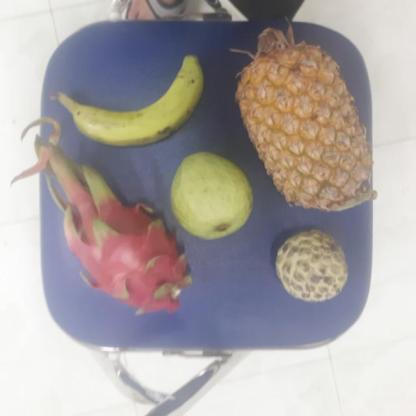annona: (273, 230, 348, 301)
guava: (167, 155, 254, 239)
pineapple: (236, 36, 370, 211)
pitaya: (62, 196, 186, 317)
